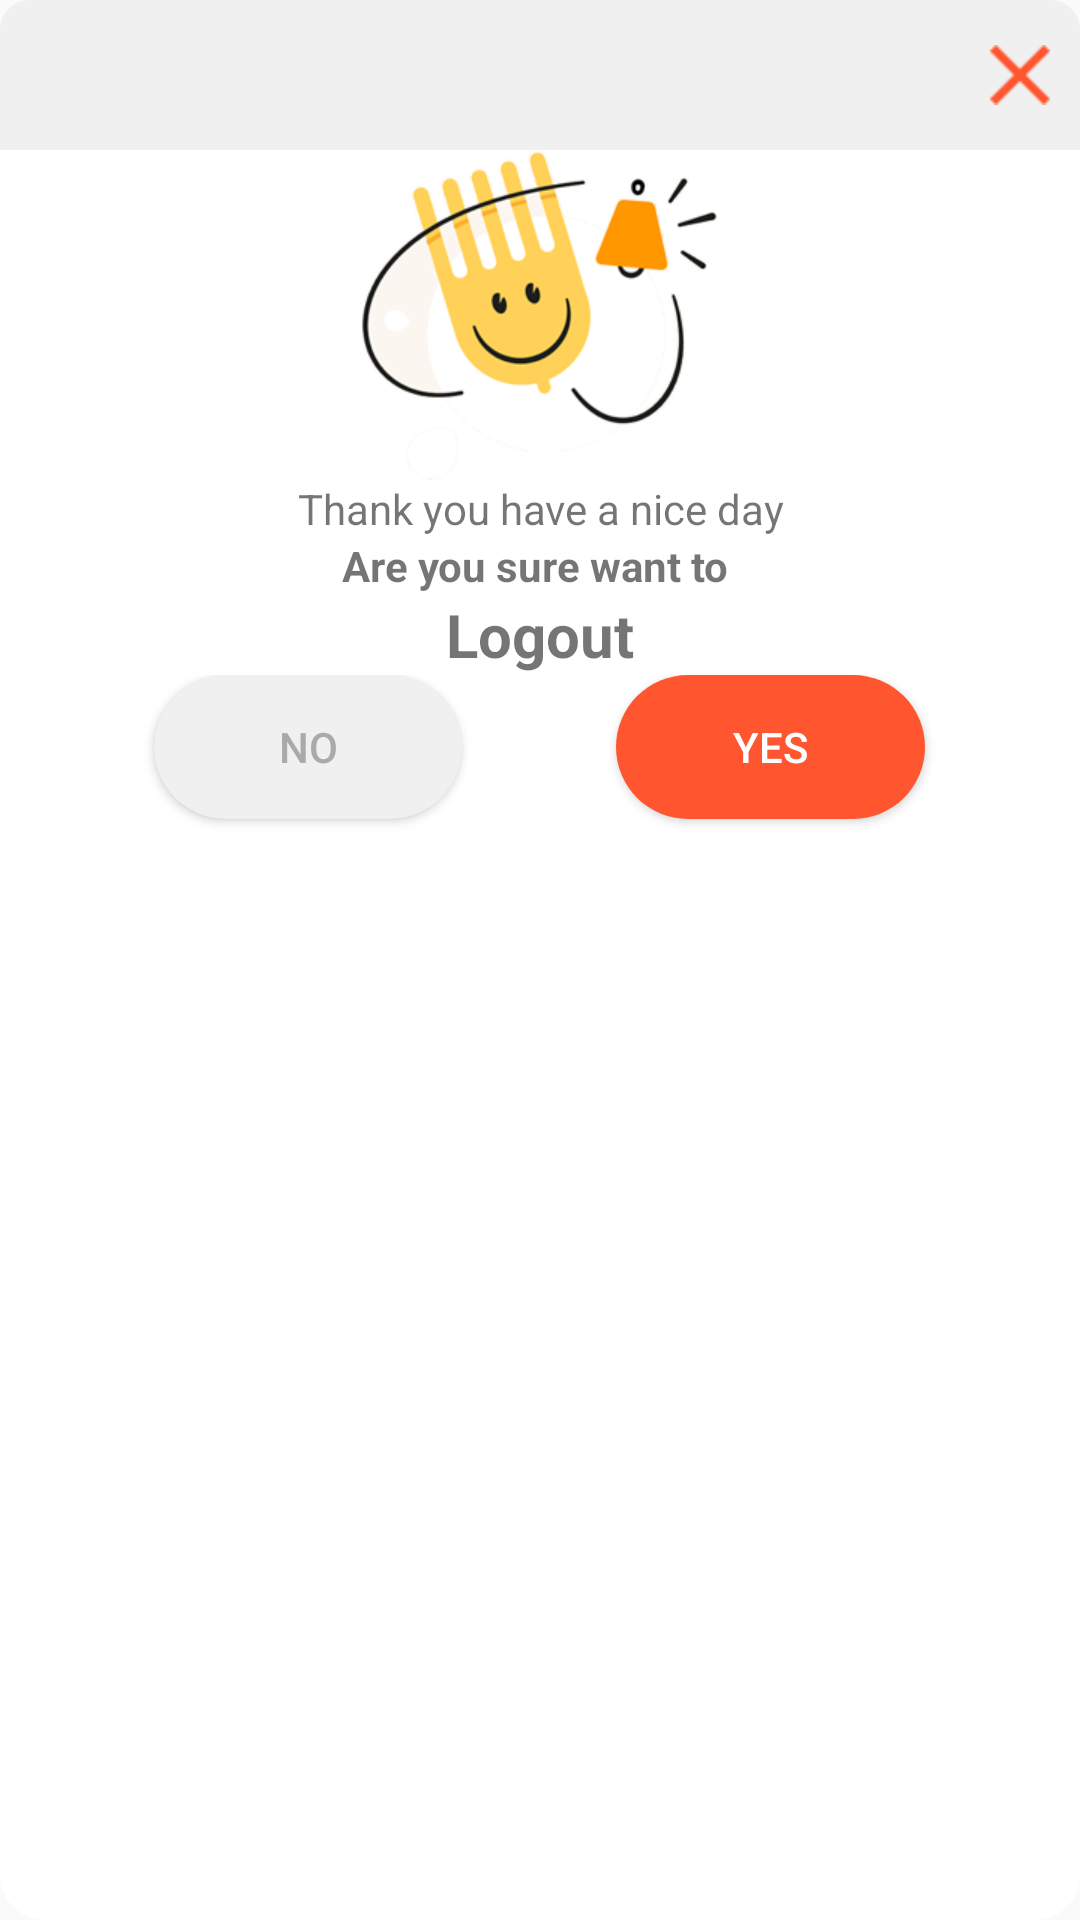

Icons on this 1080 × 1920 Android screen, each with its box as (left=x1, top=y1, right=x2, bottom=y2):
close: (left=990, top=45, right=1050, bottom=105)
